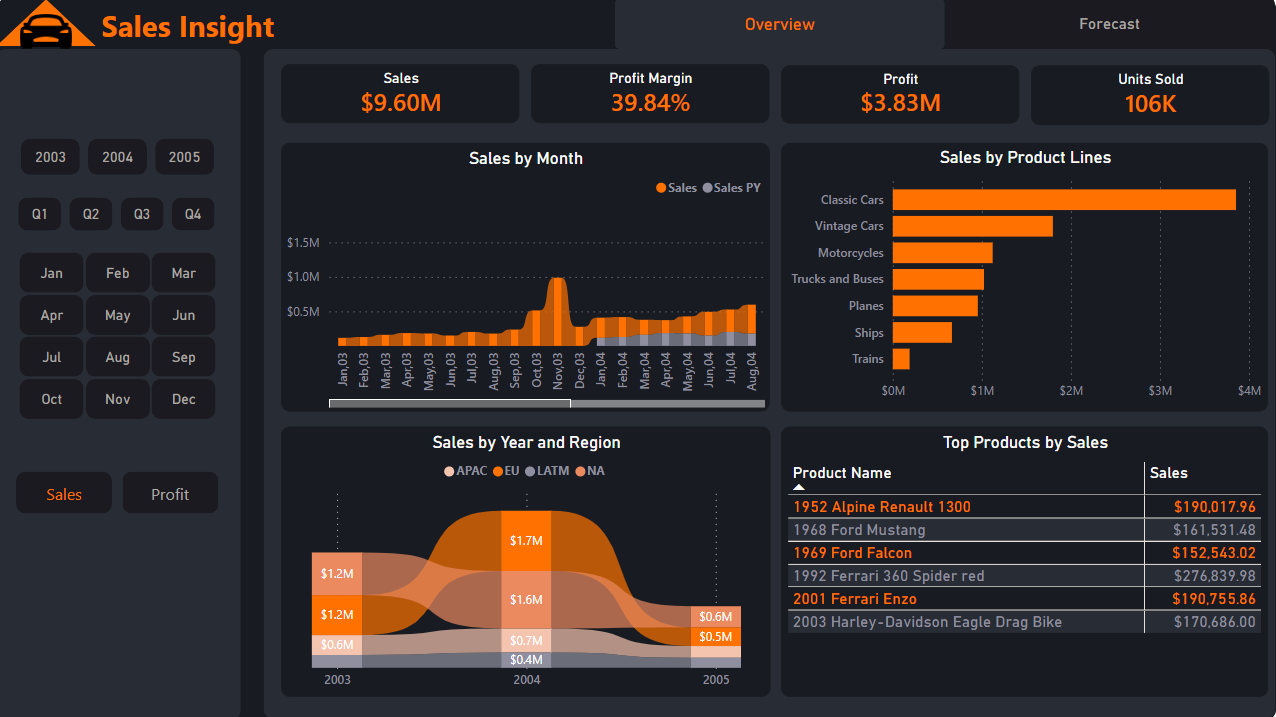

Layout of this report page (visuals, bound fields, positions):
{"tool":"powerbi","page":{"name":"Overview","canvas":[1280,720],"ordinal":0},"visuals":[{"type":"shape","box":[0,0,100.1,47.2],"z":0,"group":"g2"},{"type":"advancedSlicerVisual","fields":{"Values":["DateTable.Year"]},"box":[21,135.1,203.1,46.4],"z":0,"group":"g1"},{"type":"image","box":[0,0,100.1,65.1],"z":1000,"group":"g2"},{"type":"ribbonChart","title":"Profit by Month","fields":{"Category":["DateTable.Month Short Name Plus Year"],"Y":["MyMeasure.Profit","MyMeasure.Profit PY"]},"box":[315,143.3,466.7,270],"z":1000},{"type":"advancedSlicerVisual","title":"Month","fields":{"Values":["DateTable.Month Short Name"]},"box":[19.2,249,206,176.2],"z":1000,"group":"g1"},{"type":"shape","box":[0,0,1280.3,720.1],"z":2000},{"type":"advancedSlicerVisual","title":"Month","fields":{"Values":["payments.Quarter"]},"box":[18.1,194.4,206,43.7],"z":2000,"group":"g1"},{"type":"shape","box":[267.7,49.4,1011.9,669.3],"z":5000},{"type":"shape","box":[0,49.4,244.8,670.6],"z":7000},{"type":"card","fields":{"Values":["MyMeasure.Sales"]},"box":[284.6,65.1,238.8,59.1],"z":8000},{"type":"clusteredBarChart","title":"Sales by Product Lines","fields":{"Category":["productlines.productLine"],"Y":["MyMeasure.Sales"]},"box":[785.1,143.5,487.2,268.9],"z":10375},{"type":"ribbonChart","fields":{"Series":["Table.Region"],"Category":["DateTable.Year"],"Y":["MyMeasure.Sales"]},"box":[284.6,426.9,489.6,270.2],"z":10500},{"type":"ribbonChart","title":"Sales by Month","fields":{"Category":["DateTable.Month Short Name Plus Year"],"Y":["MyMeasure.Sales","MyMeasure.Sales PY"]},"box":[284.6,143.5,488.4,268.9],"z":11000},{"type":"tableEx","title":"Top Products by Sales","fields":{"Values":["products.productName","MyMeasure.Sales"]},"box":[785.1,426.9,487.2,270.2],"z":11500},{"type":"card","fields":{"Values":["MyMeasure.Units Sold"]},"box":[1035,66.7,238,60],"z":12000},{"type":"card","fields":{"Values":["MyMeasure.Profit Margin"]},"box":[535.3,65.1,238,59.1],"z":13000},{"type":"card","fields":{"Values":["MyMeasure.Profit"]},"box":[785.1,66.7,238,58.3],"z":14000},{"type":"group","id":"g1","title":"Group 1","box":[18.1,135.1,207.4,289.4],"z":15000},{"type":"bookmarkNavigator","box":[20.5,472.8,202.6,42.2],"z":16000},{"type":"pageNavigator","box":[618.3,0,661.7,50],"z":17000},{"type":"actionButton","box":[101.7,0,191.7,50],"z":18000},{"type":"group","id":"g2","title":"Group 2","box":[0,0,100.1,65.1],"z":19000}]}

Visuals, with their boxes in screenshot pixels (x1, y1, x2, y2), scaled from the page's 1280x720 canvas onto the 1276x717 screenshot:
shape: l=0, t=0, r=100, b=47
advancedSlicerVisual - DateTable.Year: l=21, t=135, r=223, b=181
image: l=0, t=0, r=100, b=65
"Profit by Month" ribbonChart: l=314, t=143, r=779, b=412
"Month" advancedSlicerVisual: l=19, t=248, r=224, b=423
shape: l=0, t=0, r=1275, b=716
"Month" advancedSlicerVisual: l=18, t=194, r=223, b=237
shape: l=267, t=49, r=1275, b=716
shape: l=0, t=49, r=244, b=716
card - MyMeasure.Sales: l=284, t=65, r=522, b=124
"Sales by Product Lines" clusteredBarChart: l=783, t=143, r=1268, b=411
ribbonChart - Table.Region x DateTable.Year: l=284, t=425, r=772, b=694
"Sales by Month" ribbonChart: l=284, t=143, r=771, b=411
"Top Products by Sales" tableEx: l=783, t=425, r=1268, b=694
card - MyMeasure.Units Sold: l=1032, t=66, r=1269, b=126
card - MyMeasure.Profit Margin: l=534, t=65, r=771, b=124
card - MyMeasure.Profit: l=783, t=66, r=1020, b=124
"Group 1" group: l=18, t=135, r=225, b=423
bookmarkNavigator: l=20, t=471, r=222, b=513
pageNavigator: l=616, t=0, r=1275, b=50
actionButton: l=101, t=0, r=292, b=50
"Group 2" group: l=0, t=0, r=100, b=65
